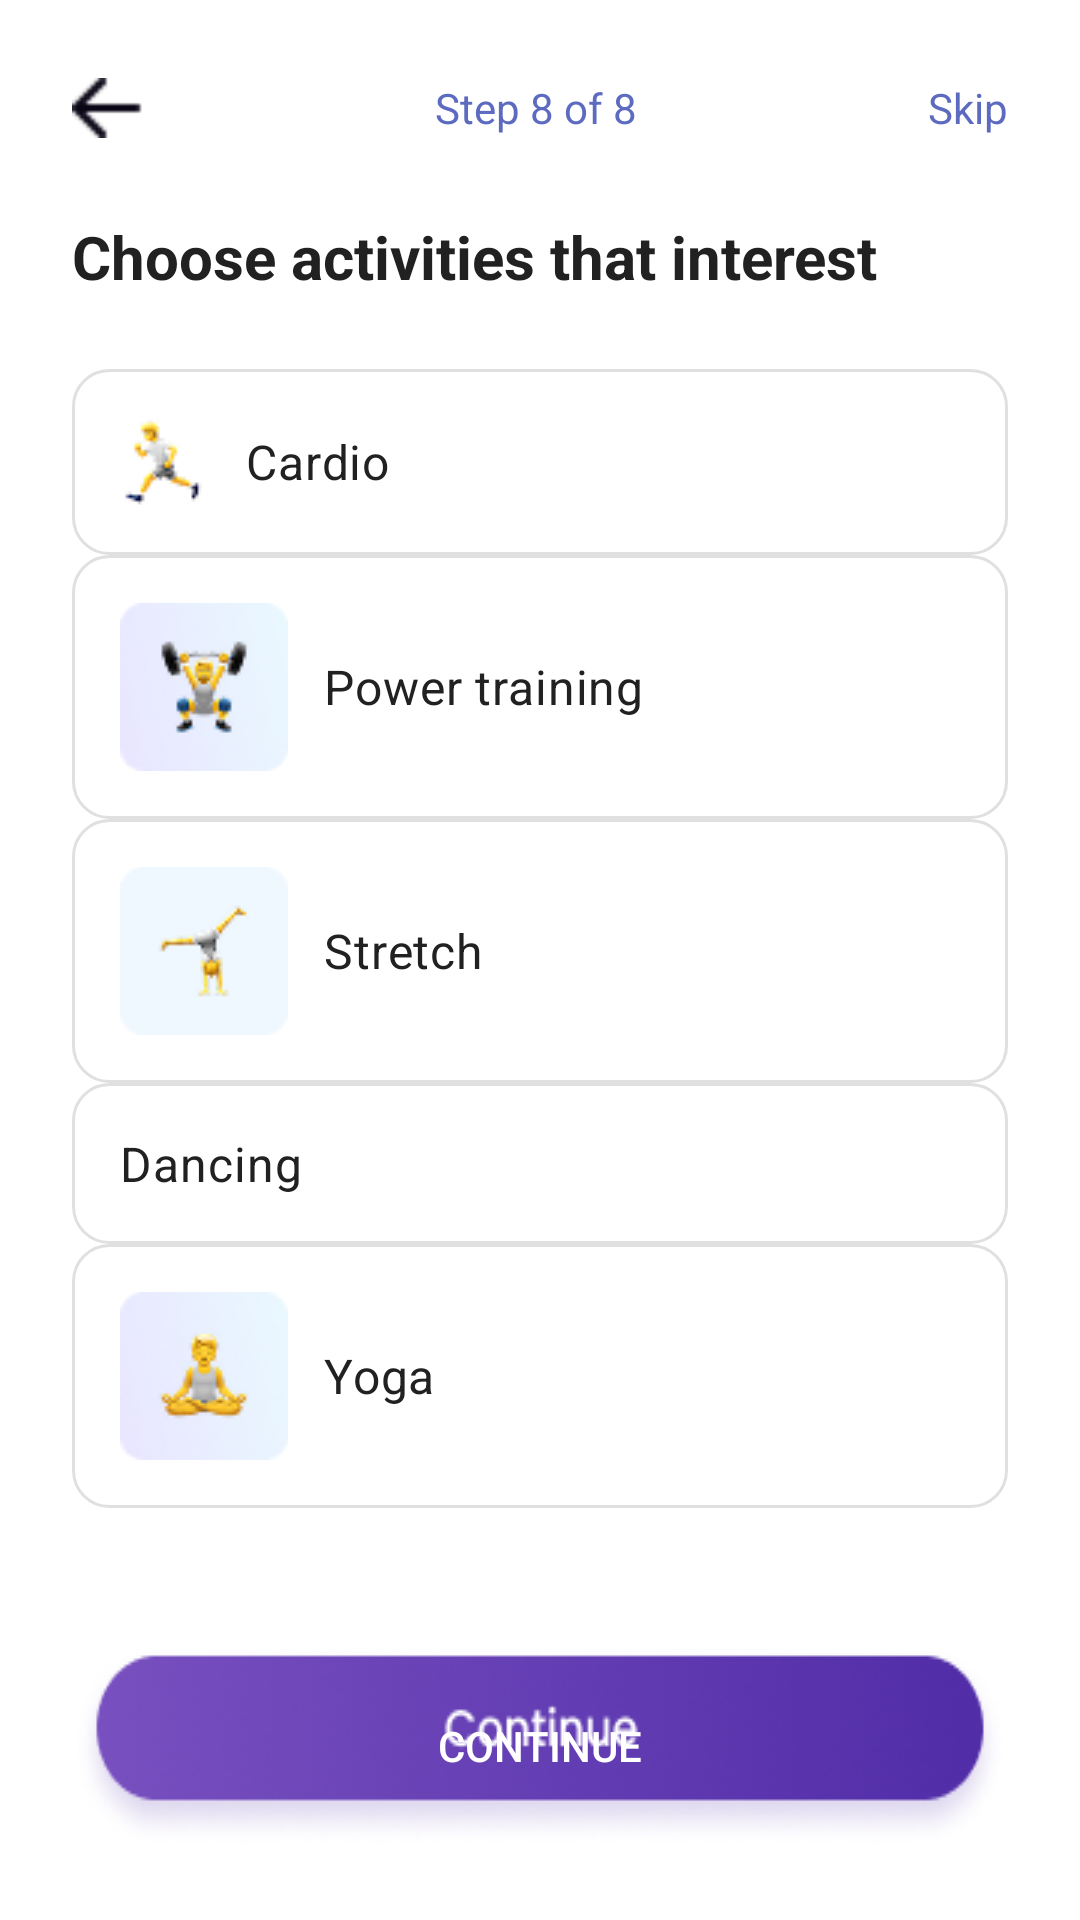

Icons on this 1080 × 1920 Android screen, each with its box as (x1, y1, x2, y2):
Back: (72, 78, 142, 138)
